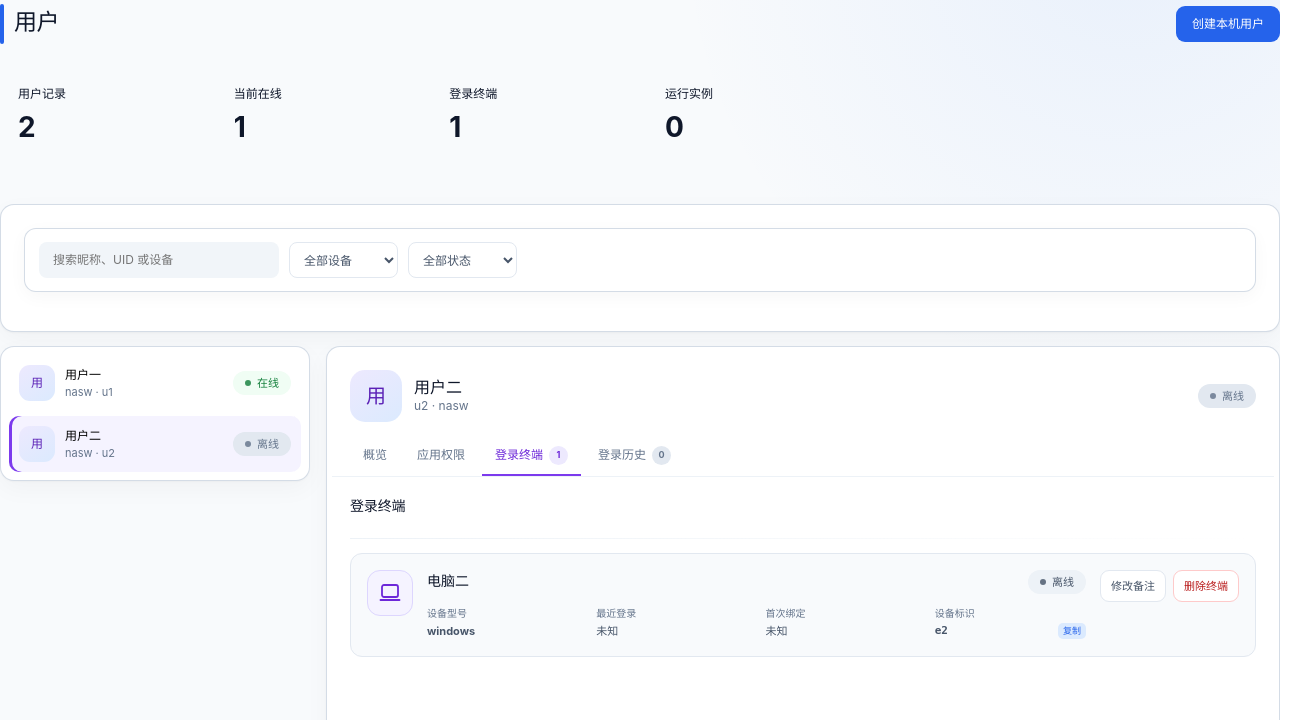
Test: UsersPage › splits user details into tabs and keeps the selected user and tab in the URL
expect the element with class "user-detail-head" shows "用户二": met, box [414,377,462,397]
expect the element with class "endpoint-card" shows "电脑二": met, box [427,572,469,589]
Click the tab "概览" at coordinates (375, 456), box [350,436,400,476]
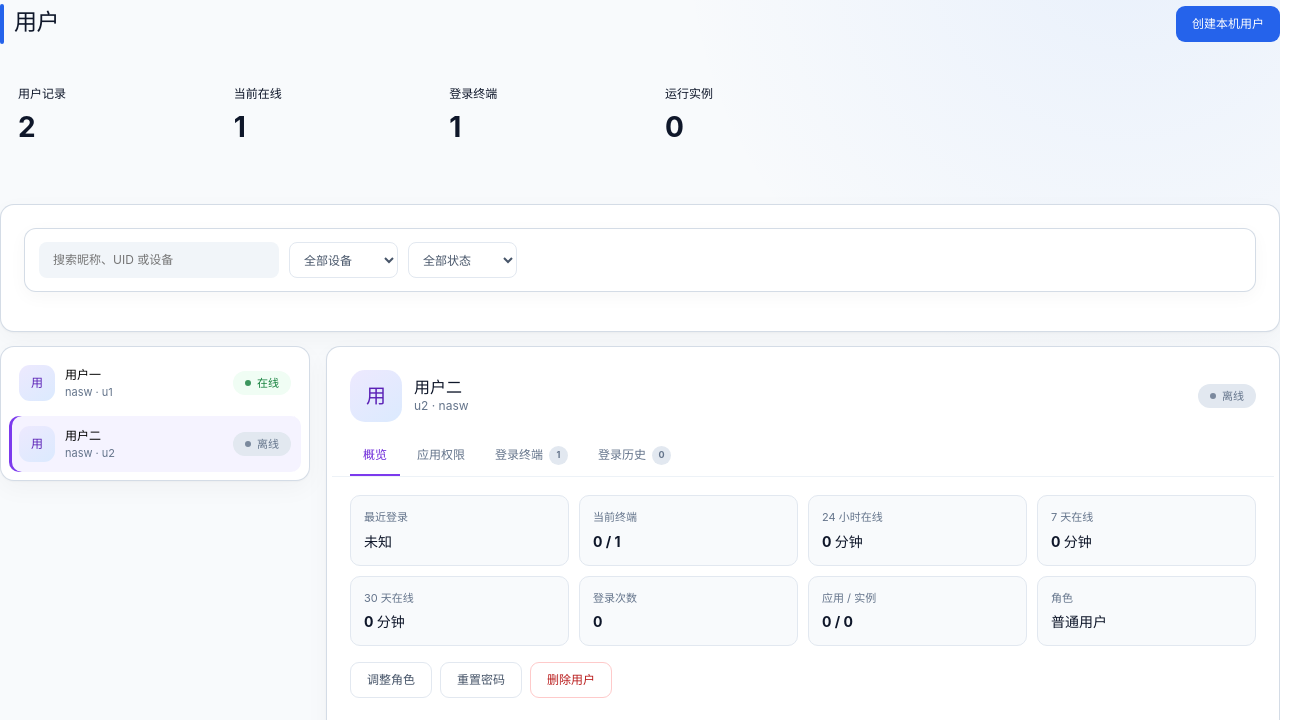
expect the element with class "user-metric-grid" is shown: met, box [350,495,1256,646]
